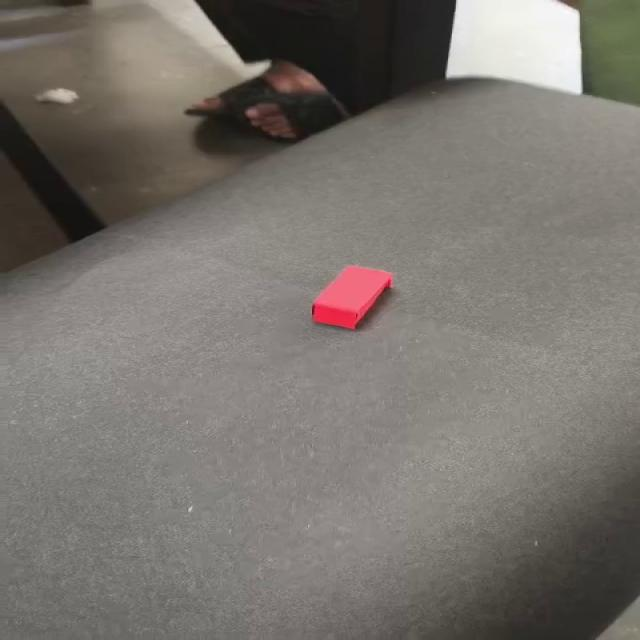red block: (310, 264, 394, 330)
